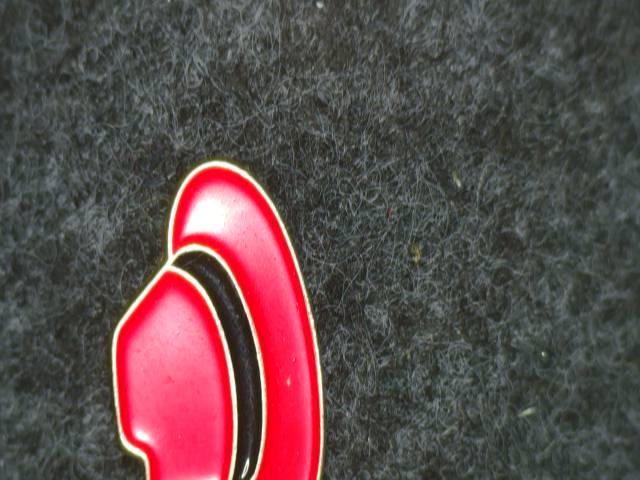Red-Hat: (71, 137, 347, 480)
